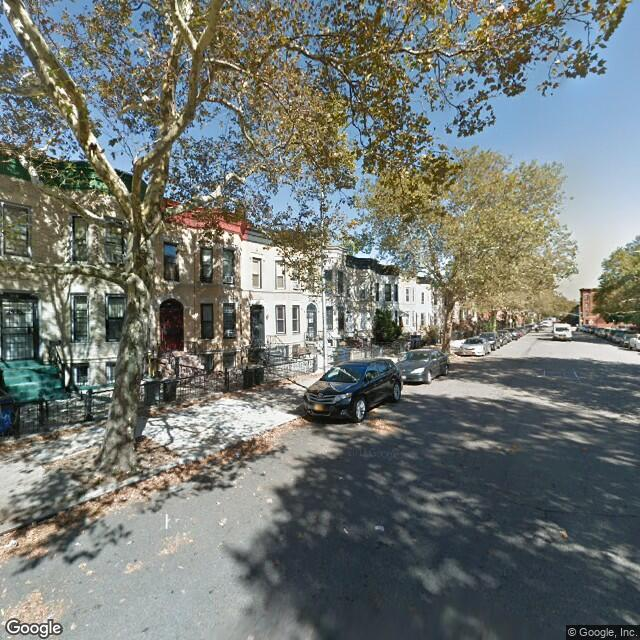litter: (130, 450, 277, 492), (5, 536, 46, 554)
